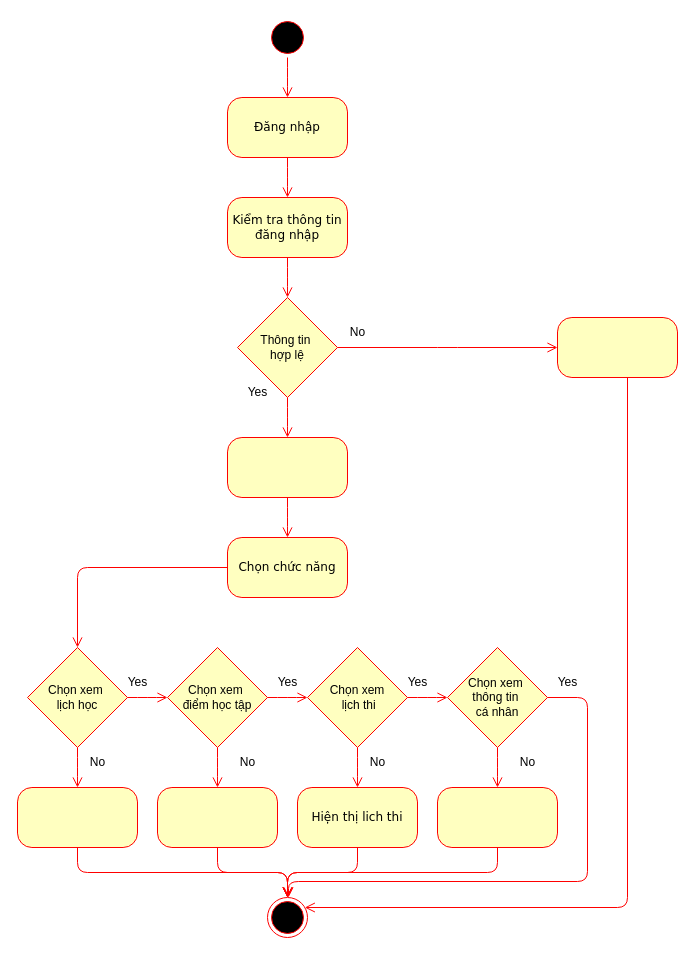
The diagram is 695 pixels wide and 955 high, and some of its shapes have lost their labels. Here are the shapes that lost their labels. From the top down, the box of each, then its label:
(556, 316, 678, 378): Thông báo lỗi
(226, 436, 348, 498): Hiện thị trang chính
(16, 786, 138, 848): Hiện thị lich học
(156, 786, 278, 848): Hiện thị điểm học tập
(436, 786, 558, 848): Hiện thị thông tin cá nhân
